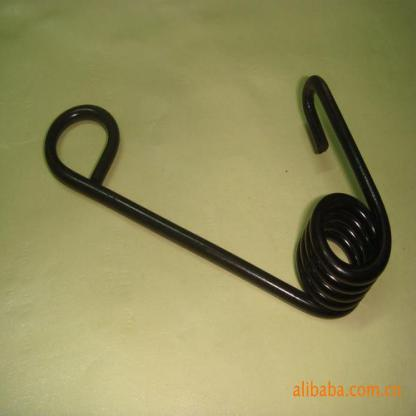FOD: (43, 69, 395, 324)
